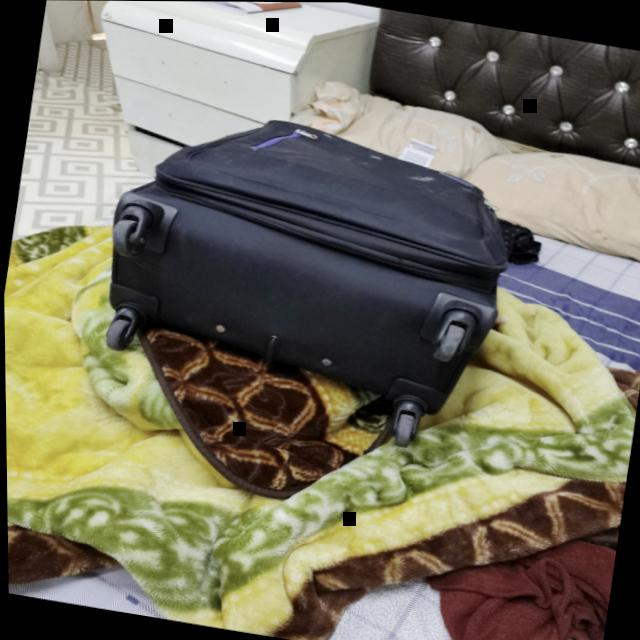luggage: (88, 92, 528, 427)
